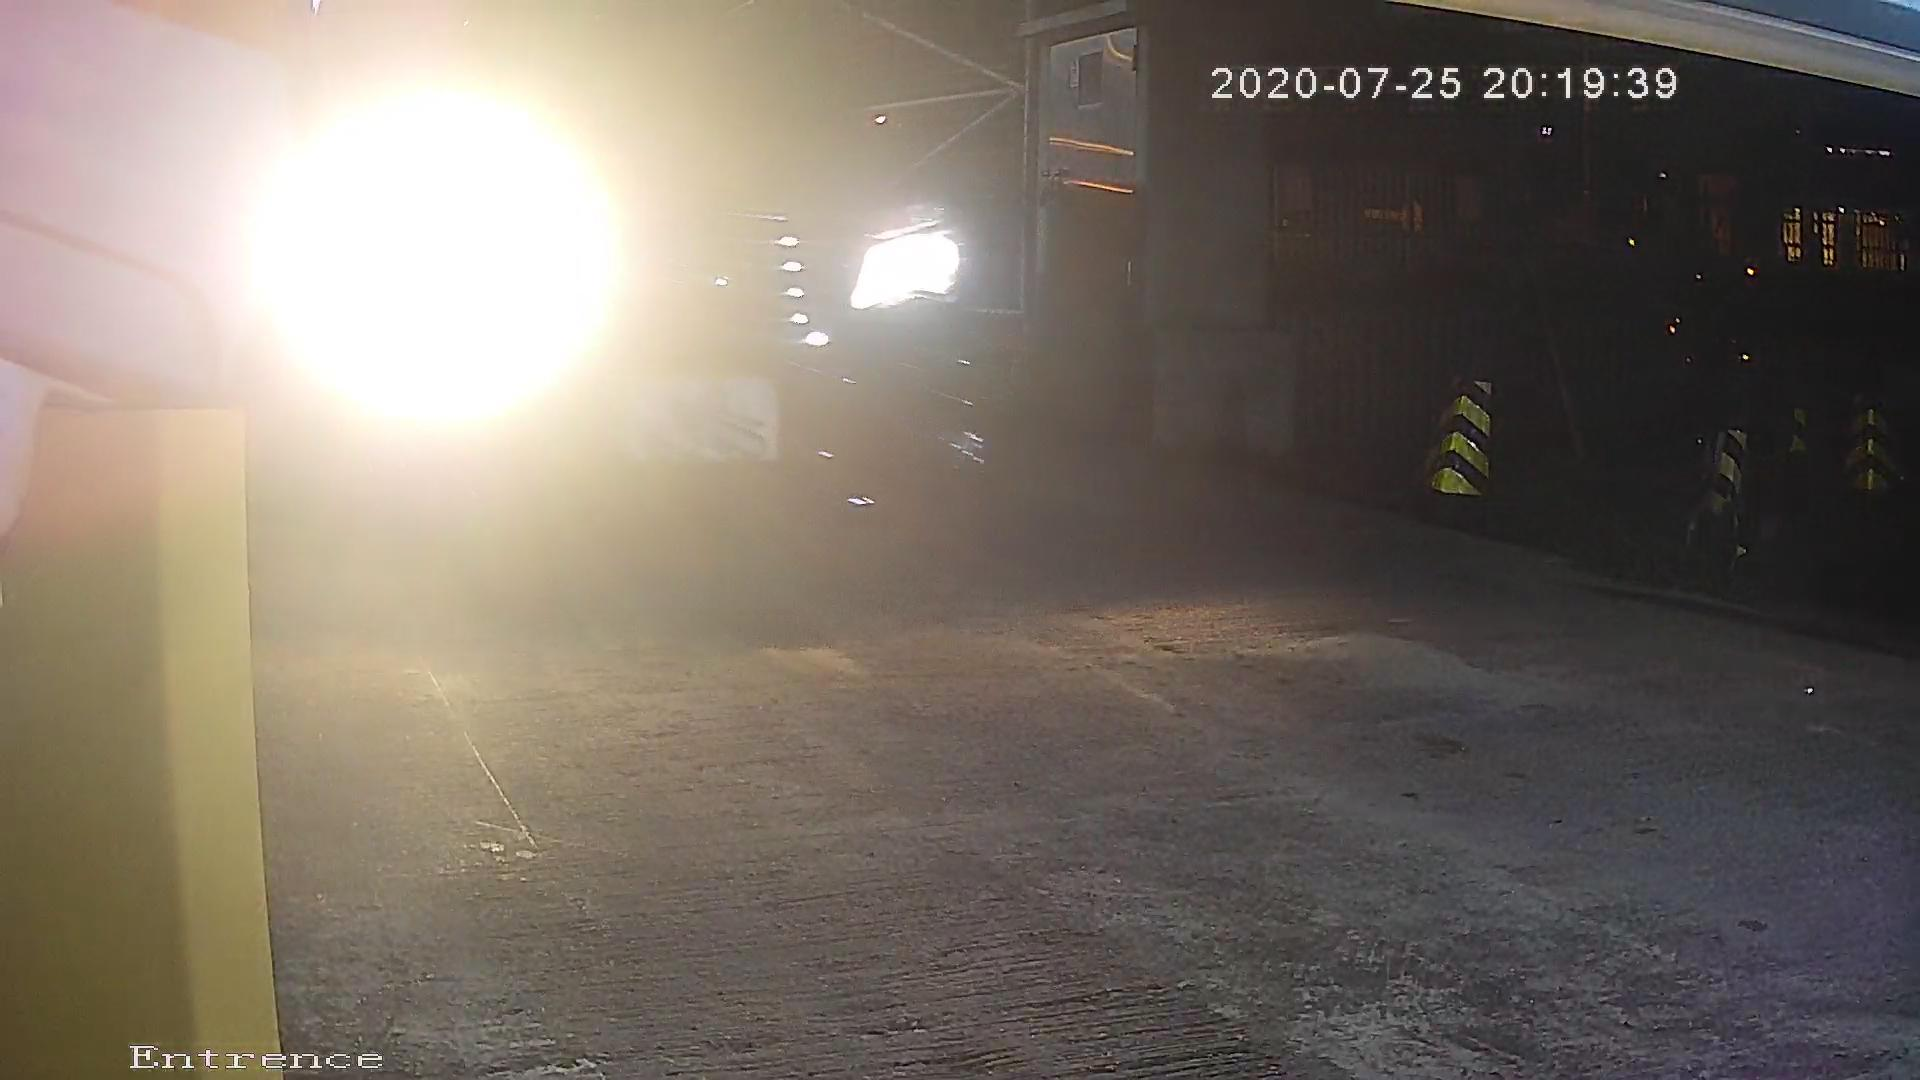Car: (103, 5, 1621, 685)
License Plate: (612, 346, 825, 503)
